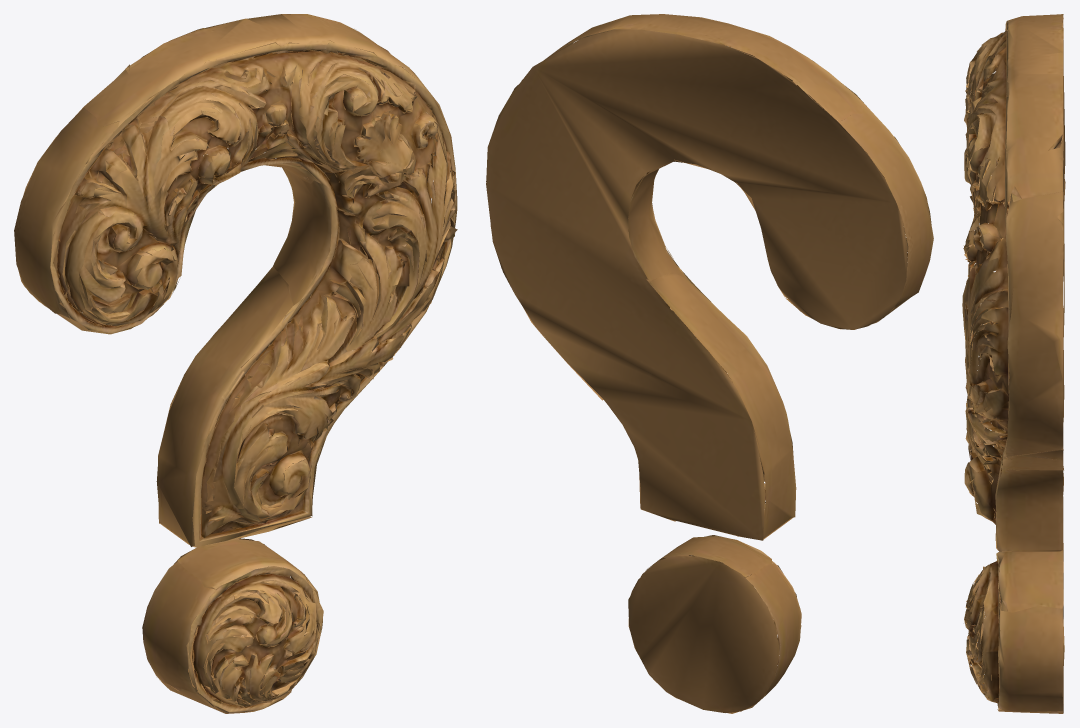
Rendered from clue-mark.glb.
The picture shows the model from 3 angles, left to right: view 1: azimuth 30°, elevation 25°; view 2: azimuth 150°, elevation 25°; view 3: azimuth 270°, elevation 25°; orthographic projection.
Size of the model in its own units: 1.25 by 1.9 by 0.2663.
Materials: 1 (1 with a texture image).
